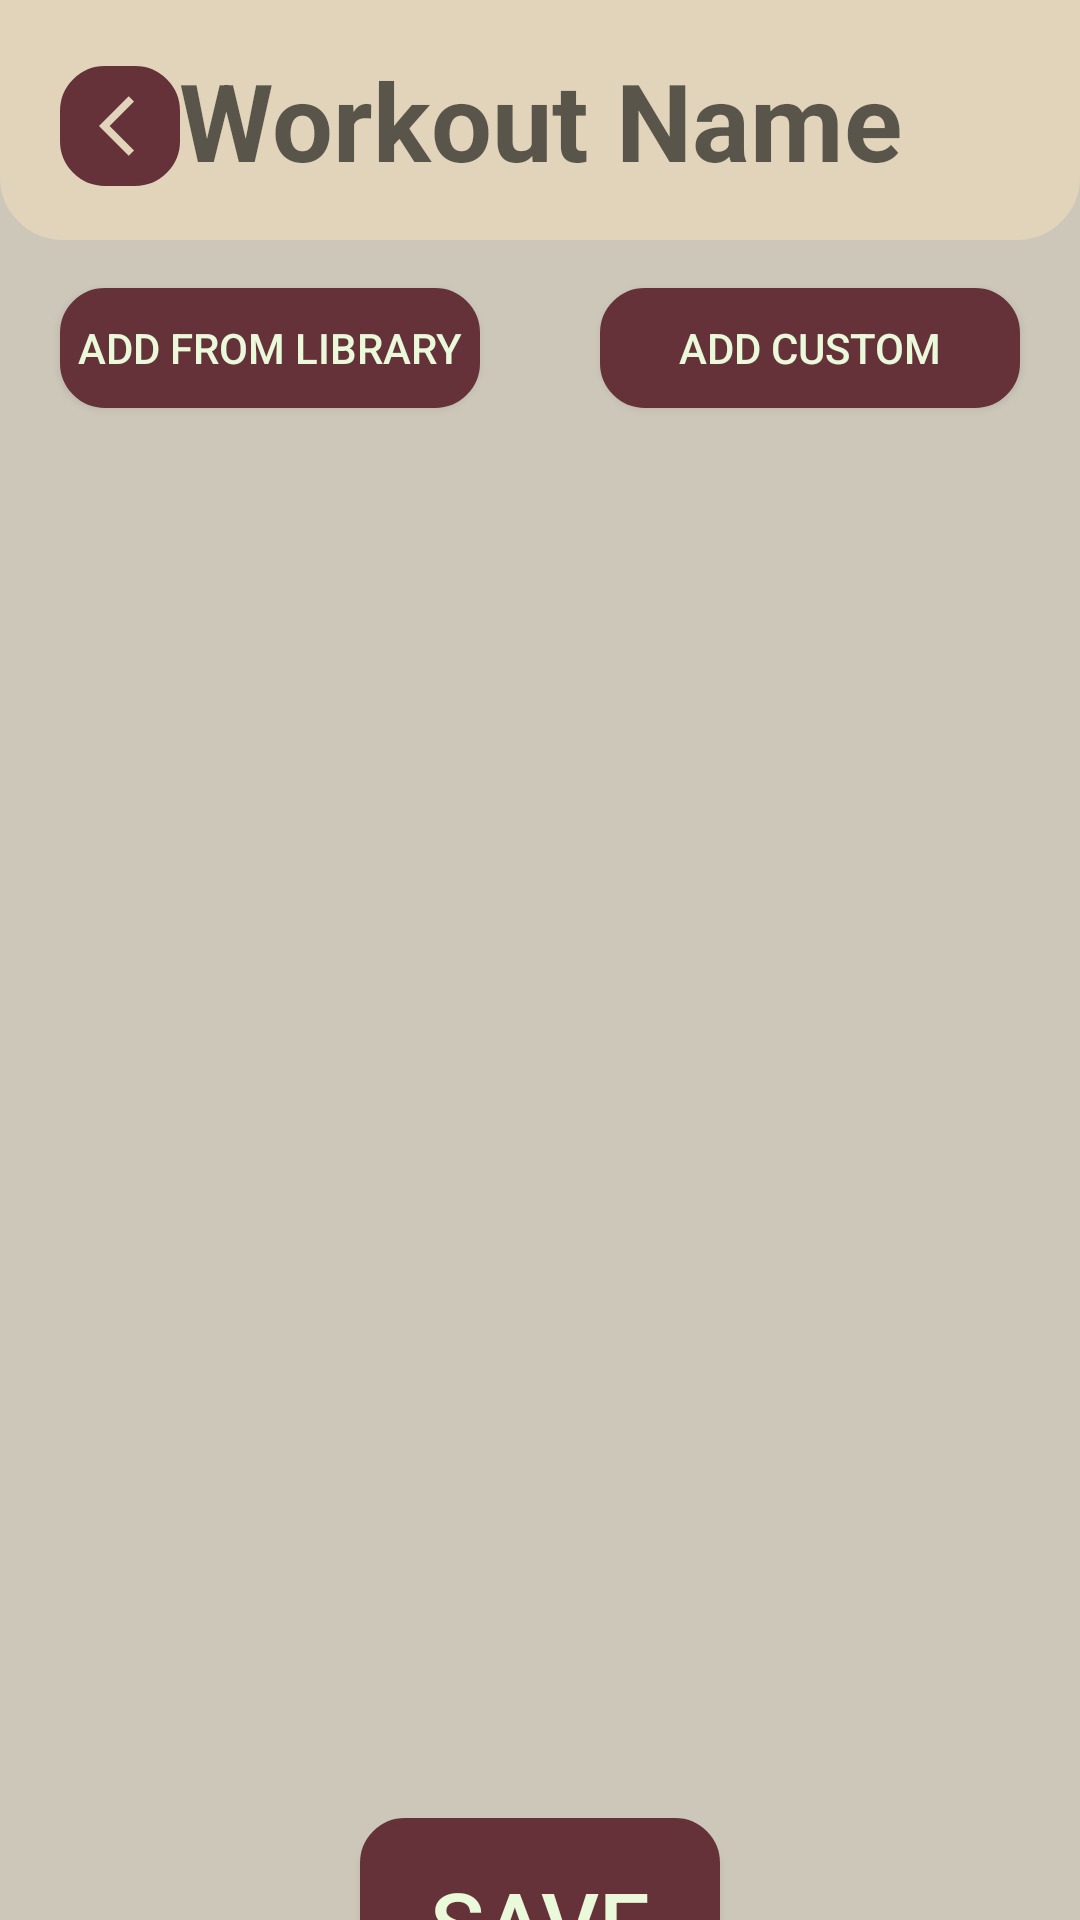

Point at icon controls on the screen. Image size 1080w x 1920h, points as (x=x, y=y).
back: (x=120, y=126)
